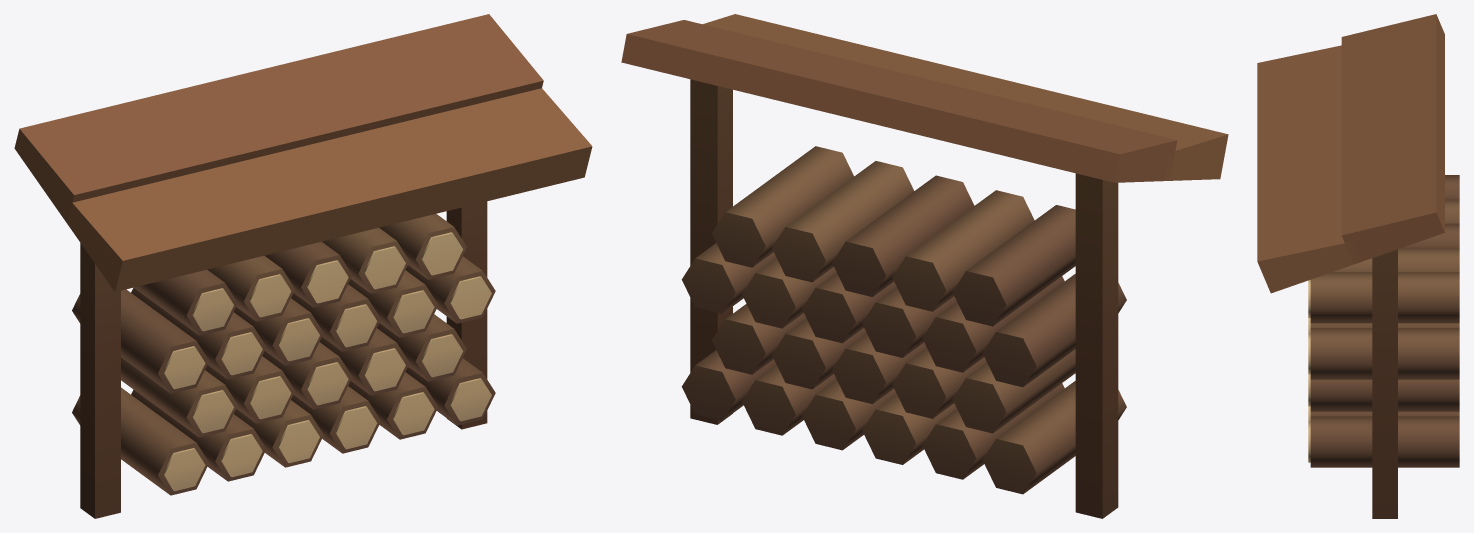
Rendered from woodpile.glb.
3 views of the same model, side by side, from view 1: azimuth 30°, elevation 25°; view 2: azimuth 150°, elevation 25°; view 3: azimuth 270°, elevation 25° (orthographic). The views are drawn at different scales.
Parts seen in each view (by area): view 1: woodpile; view 2: woodpile; view 3: woodpile.
Part boxes in pixels (left/top/right/bottom): woodpile: left=14, top=14, right=592, bottom=518; woodpile: left=621, top=14, right=1228, bottom=518; woodpile: left=1257, top=14, right=1459, bottom=518.
Bounding box in the file's own units: 8.2 × 6.22 × 3.53.
Materials: 1 (1 with a texture image).
